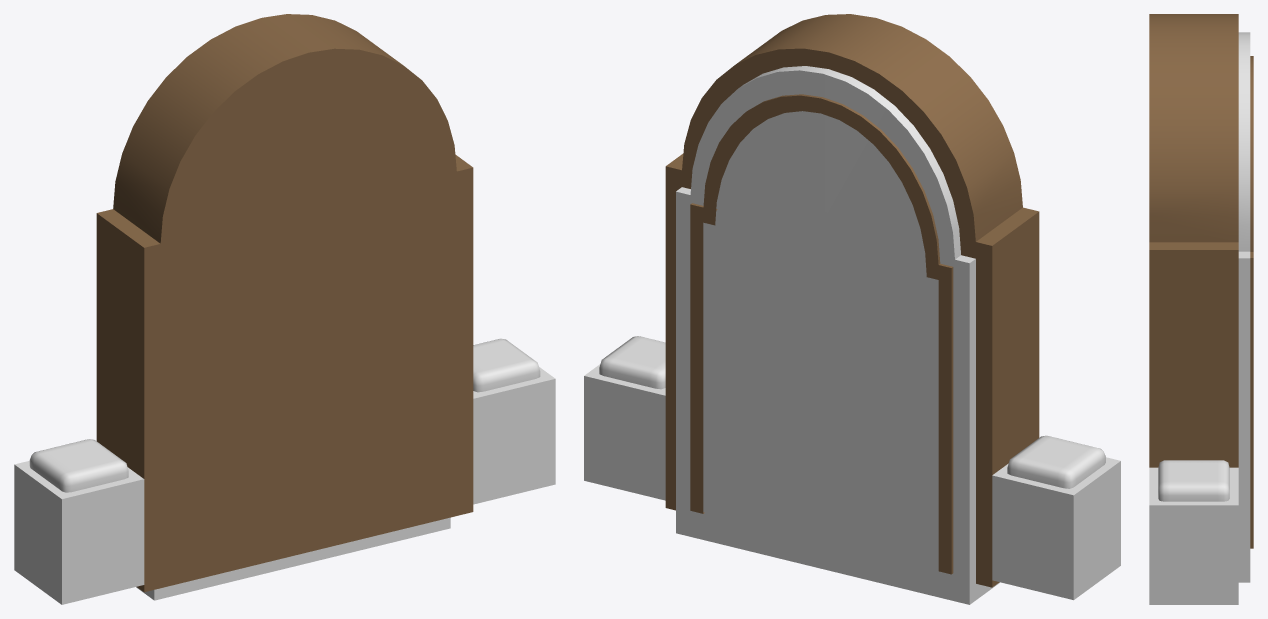
File: tumba.glb
3 views of the same model, side by side, from view 1: azimuth 30°, elevation 25°; view 2: azimuth 150°, elevation 25°; view 3: azimuth 270°, elevation 25° (orthographic). The views are drawn at different scales.
Parts seen in each view (by area): view 1: Conector_5, Conector_3, Conector_2, Conector_6; view 2: Conector_6, Conector_5, Conector_3, tumbahueca, Conector_2; view 3: Conector_5, Conector_2, Conector_6, tumbahueca.
Boxes of the visible parts, x1,y1,x2,y2 form: Conector_5: (96, 14, 473, 592); Conector_3: (14, 439, 144, 604); Conector_2: (473, 338, 555, 504); Conector_6: (136, 517, 450, 600); Conector_6: (676, 66, 999, 604); Conector_5: (665, 14, 1039, 587); Conector_3: (992, 435, 1120, 600); tumbahueca: (690, 94, 953, 574); Conector_2: (584, 336, 665, 500); Conector_5: (1149, 14, 1238, 467); Conector_2: (1149, 460, 1238, 604); Conector_6: (1238, 32, 1250, 582); tumbahueca: (1250, 56, 1253, 548).
Bounding box in the file's own units: 3 × 3 × 0.5842.
